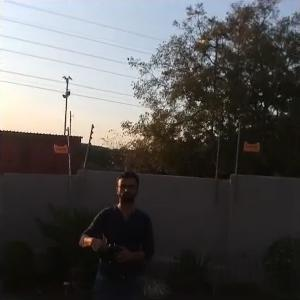follow: (72, 156, 156, 299)
